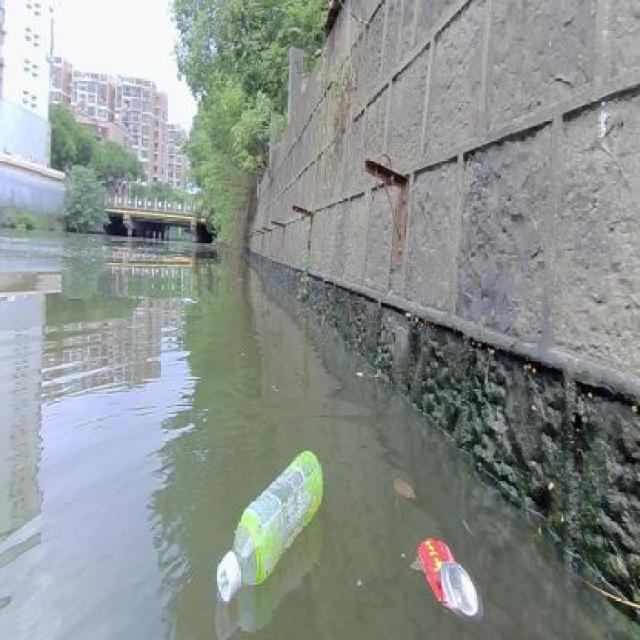Bottle: (213, 449, 327, 604)
Can: (405, 534, 491, 626)
